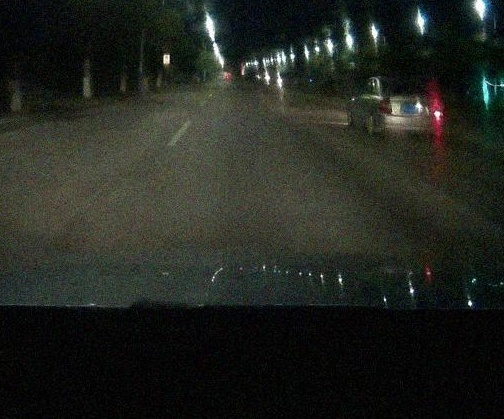L_light: (379, 99, 392, 114)
R_light: (431, 100, 443, 116)
T_light: (401, 81, 409, 84)
night-right: (378, 76, 444, 142)
